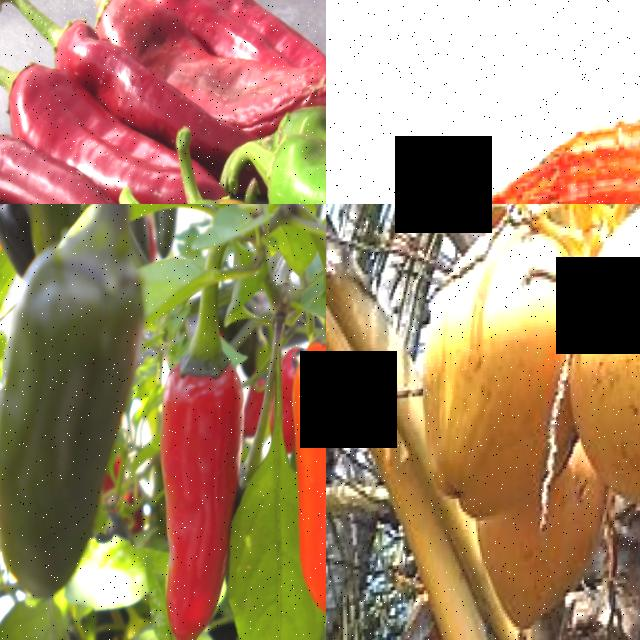chilli: (147, 336, 253, 640), (283, 317, 326, 622)
coconut: (410, 221, 582, 524), (561, 204, 640, 537)
crab: (344, 100, 640, 204)
